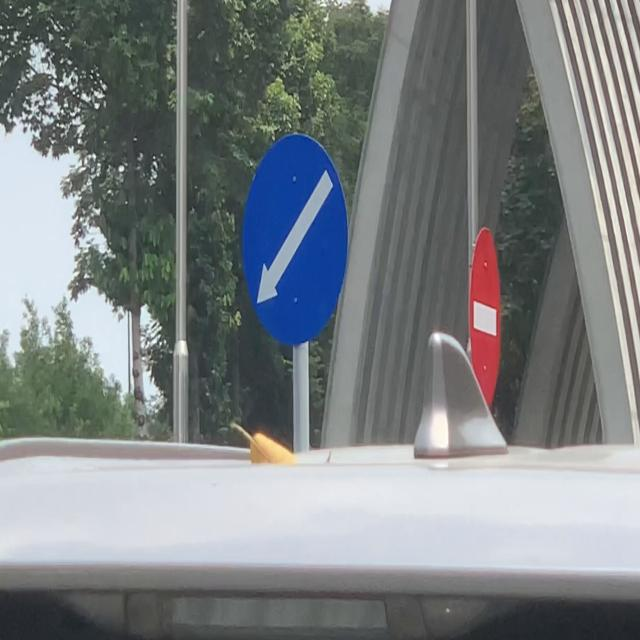Hieu lenh: (241, 134, 349, 348)
